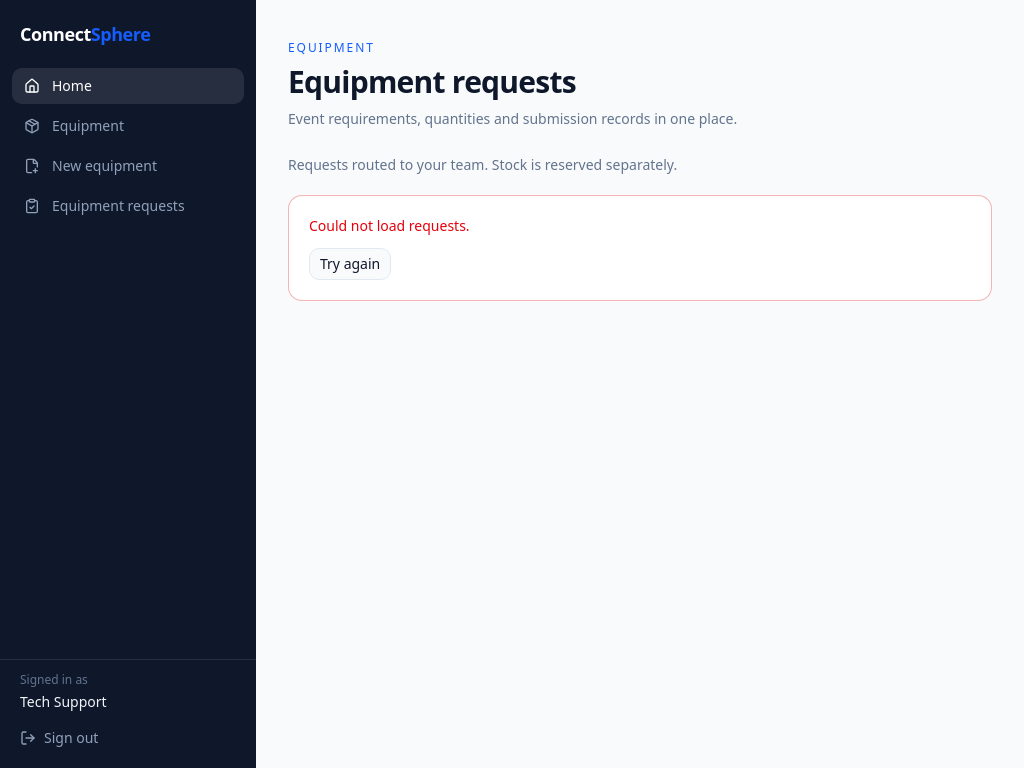
Test: equipment request pages recover, retain record references and page in both directions
expect the message "Could not load requests. Try again" is shown: met, box [288,195,992,301]
Click the button "Try again" at {"x": 350, "y": 264}, box [309,248,391,280]
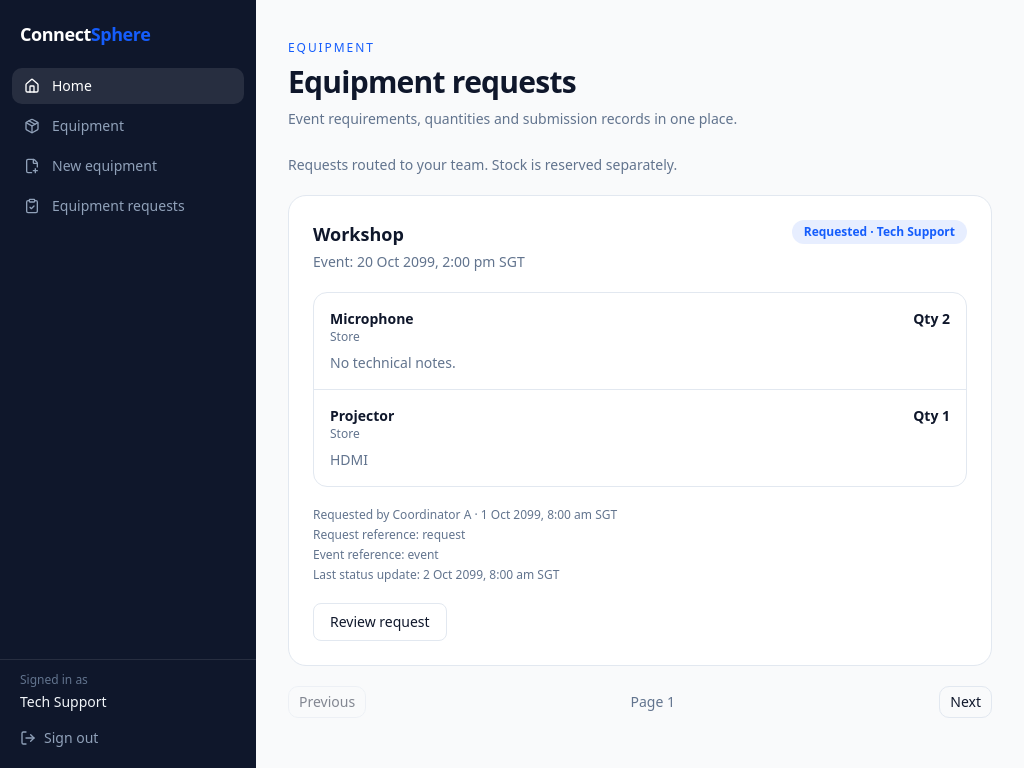
expect the heading "Workshop" is shown: met, box [313,222,404,246]
expect the text "No technical notes." is shown: met, box [330,353,456,372]
expect the text "Last status update: 2 Oct 2099, 8:00 am SGT" is shown: met, box [313,566,559,583]
Click the button "Next" at {"x": 966, "y": 702}, box [939,686,992,718]
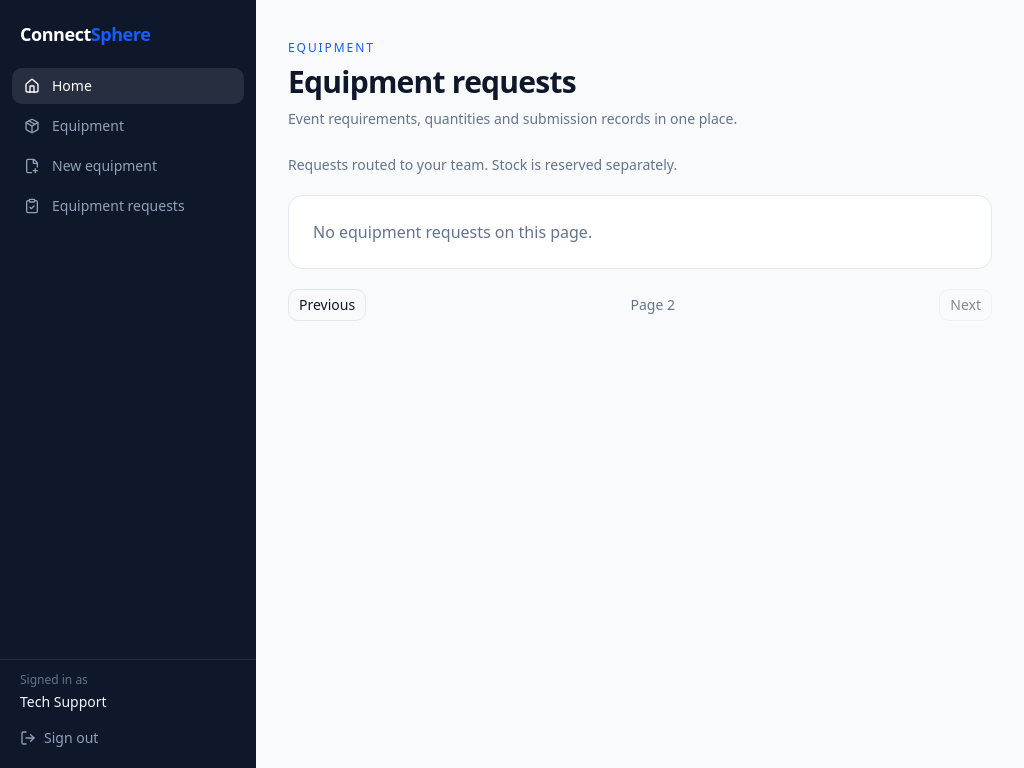
expect the text "No equipment requests on this page." is shown: met, box [288,195,992,269]
Click the button "Previous" at {"x": 327, "y": 305}, box [288,289,366,321]
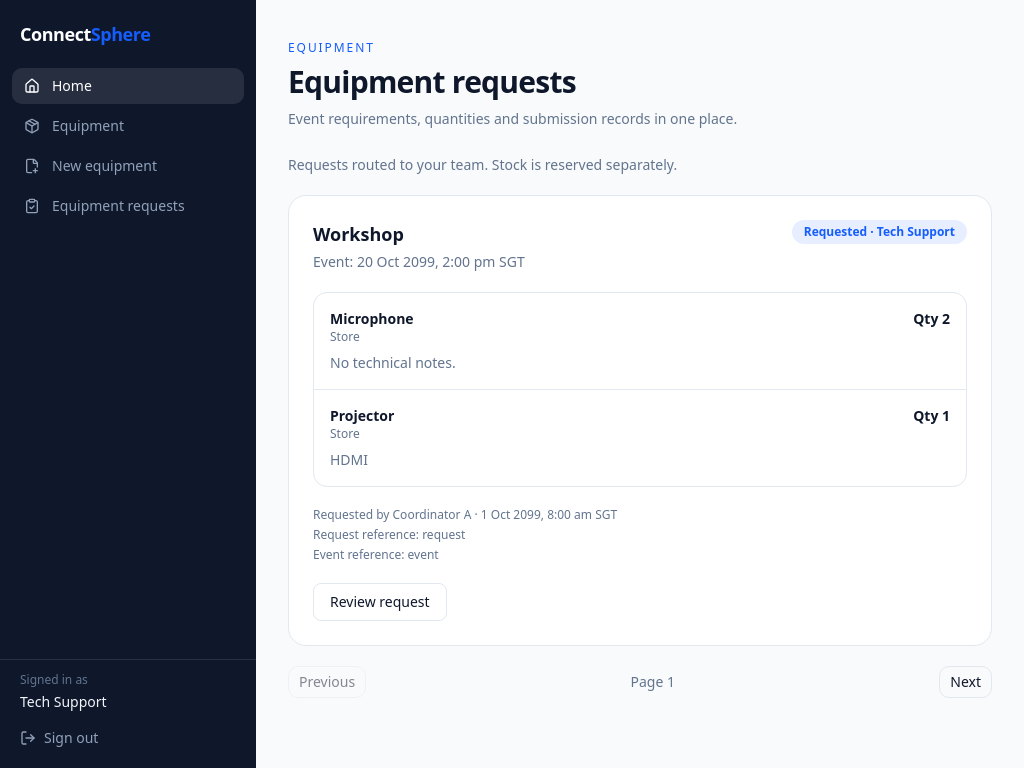
expect the heading "Workshop" is shown: met, box [313,222,404,246]
